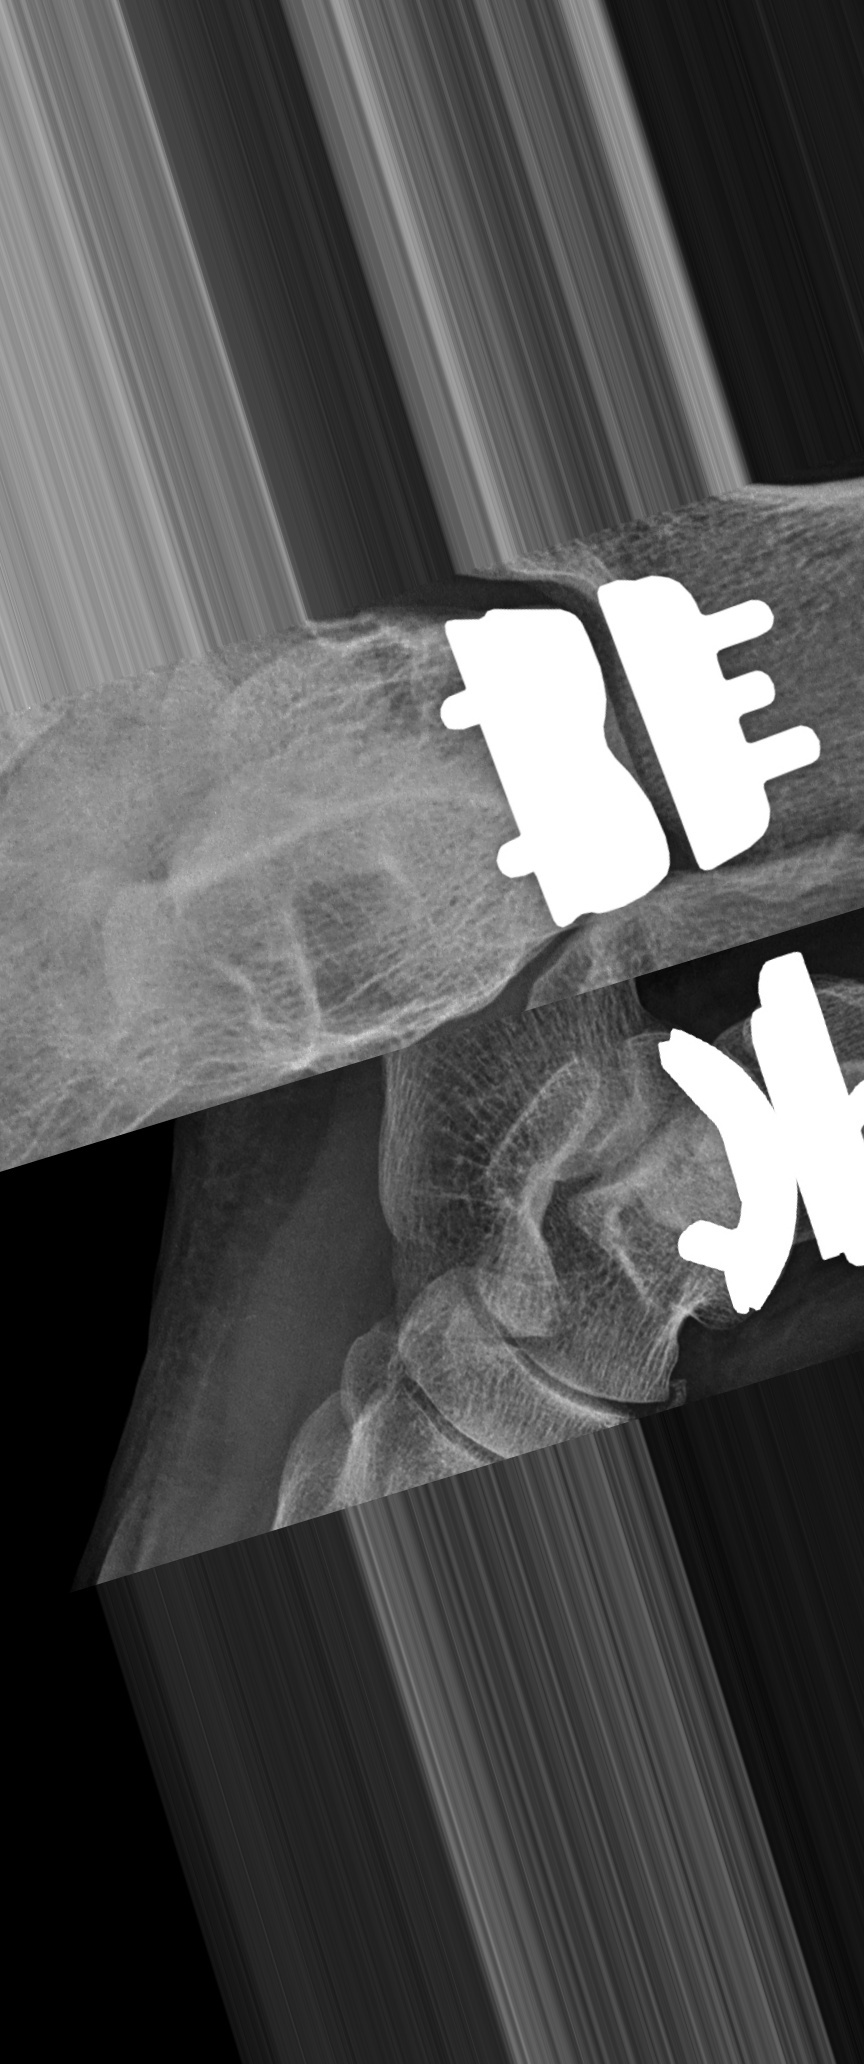Ankle - Infinity - Wright: (419, 545, 830, 932), (643, 944, 864, 1369)
